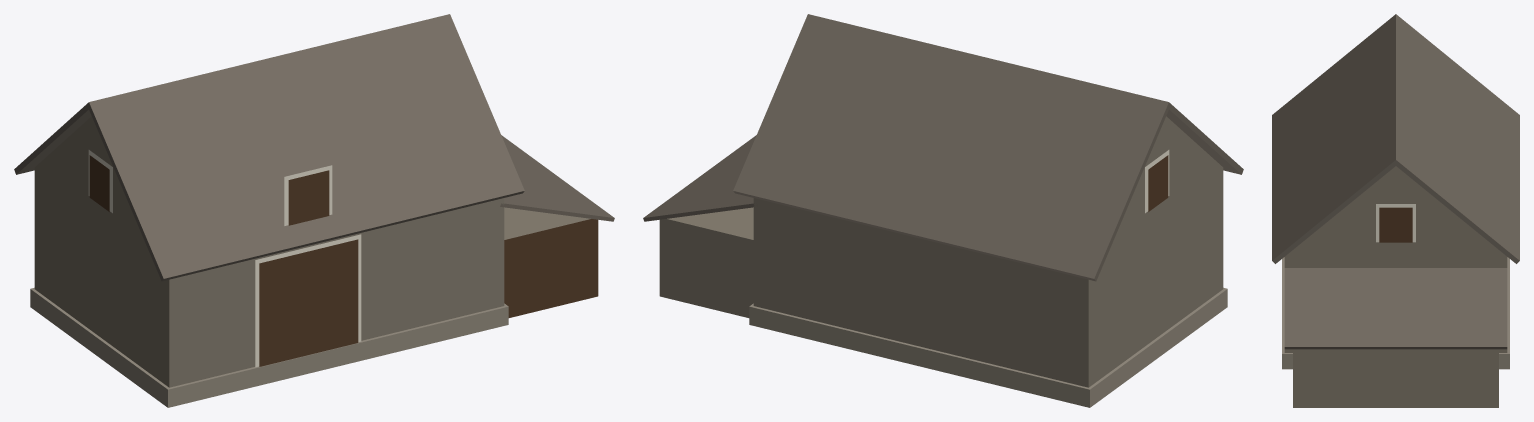
Rendered from barn_b.glb.
The picture shows the model from 3 angles, left to right: view 1: azimuth 30°, elevation 25°; view 2: azimuth 150°, elevation 25°; view 3: azimuth 270°, elevation 25°; orthographic projection. The views are drawn at different scales.
Visible parts, largest first — view 1: barn_b; view 2: barn_b; view 3: barn_b.
Boxes of the visible parts, x1,y1,x2,y2 form: barn_b: (14, 14, 614, 407); barn_b: (643, 14, 1243, 407); barn_b: (1272, 14, 1519, 407).
Size of the model in its own units: 15.75 by 8.46 by 8.9.
